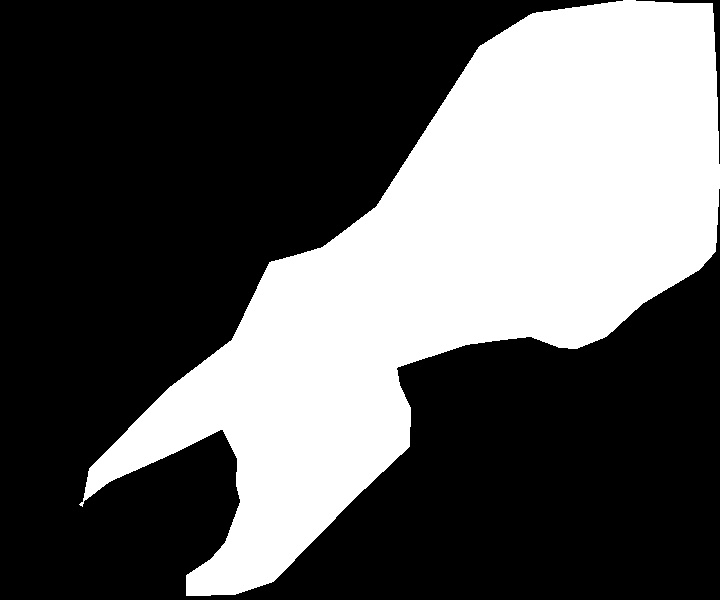Fire: (85, 318, 435, 550)
